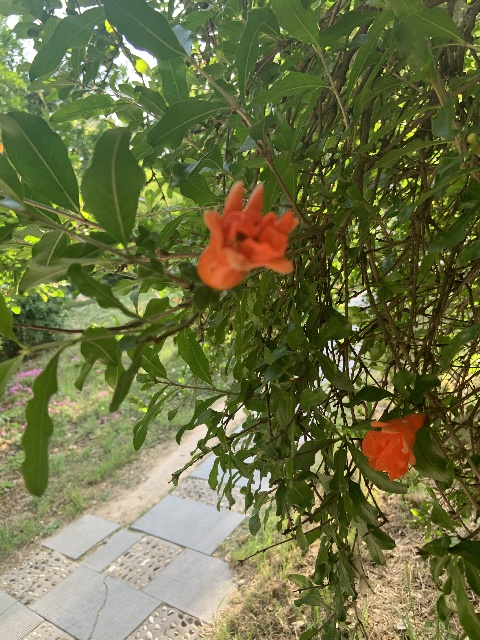flower: (197, 180, 297, 290), (362, 412, 426, 480)
